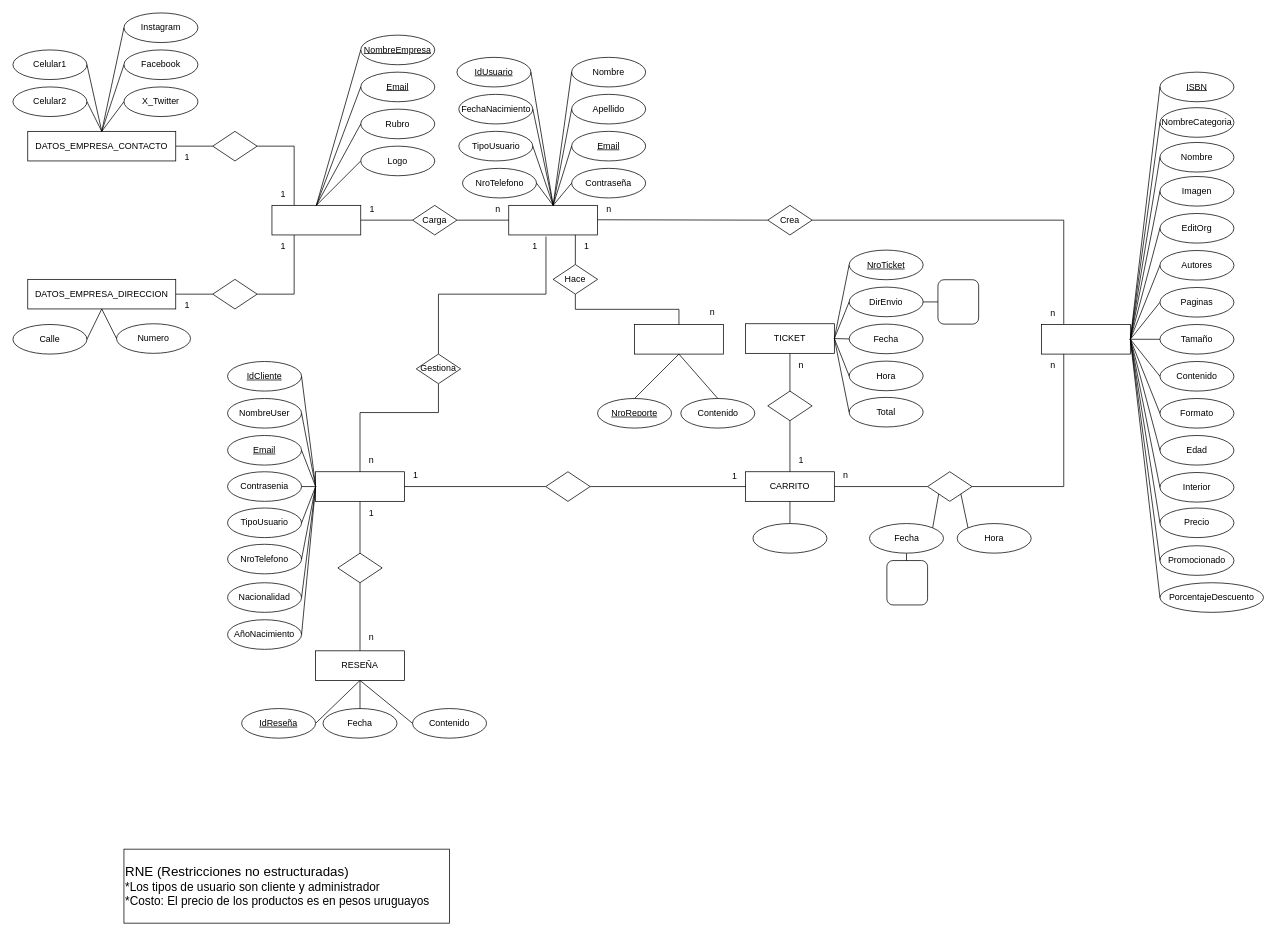
Some shapes in this 1277 by 936 pixel diagram are drawn without their labels. Each missing label, with the centre of its shape:
-Calle -Número: point (958, 301)
-Dia -Mes -Año: point (907, 582)
ADMINISTRADOR: point (553, 220)
Agrega: point (949, 486)
CLIENTE: point (359, 486)
Compra: point (789, 405)
Contacta: point (234, 146)
DATOS_EMPRESA: point (316, 220)
HISTORIETA: point (1085, 339)
IdCarrito: point (789, 538)
REPORTE: point (678, 339)
Reseñar: point (359, 567)
Tiene: point (567, 486)
Ubica: point (234, 294)
